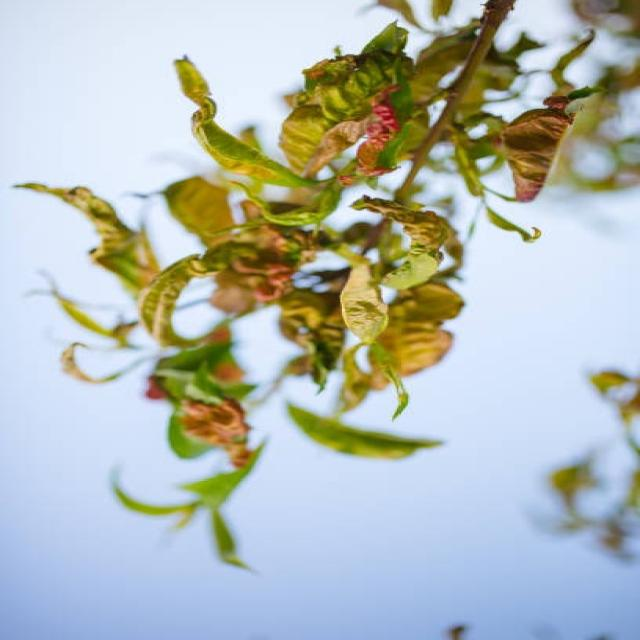peach_leaf_curl: (212, 69, 593, 324)
